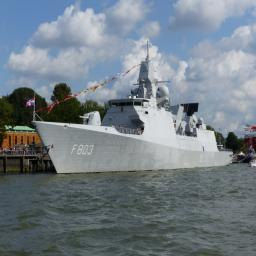Fragata: (30, 37, 235, 178)
